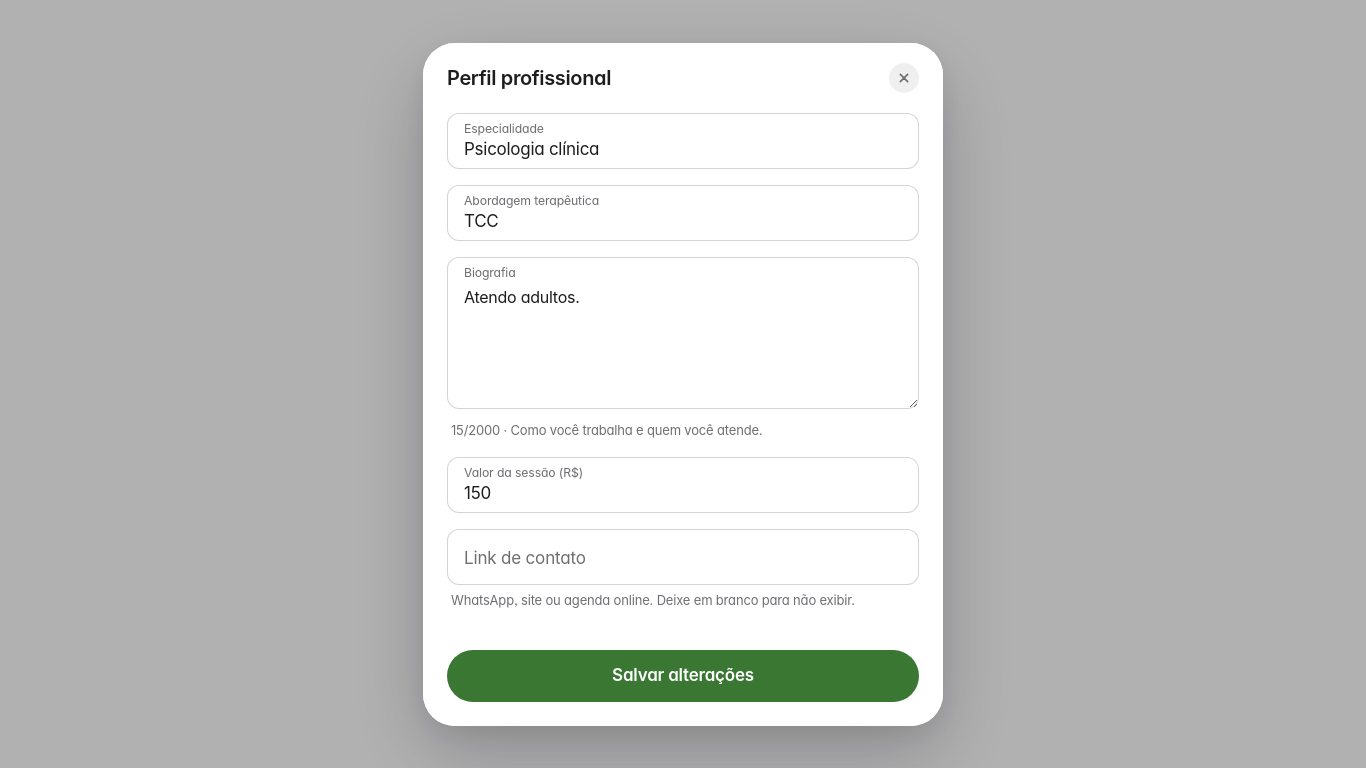
ProfessionalProfileSheet — edição do perfil profissional (US-11) › mostra a mensagem da API quando a validação falha e não fecha
The image size is (1366, 768).
Type "wa.me/123" into the field labelled "Link de contato".
click(683, 556); type("wa.me/123")  # box [447, 528, 919, 584]
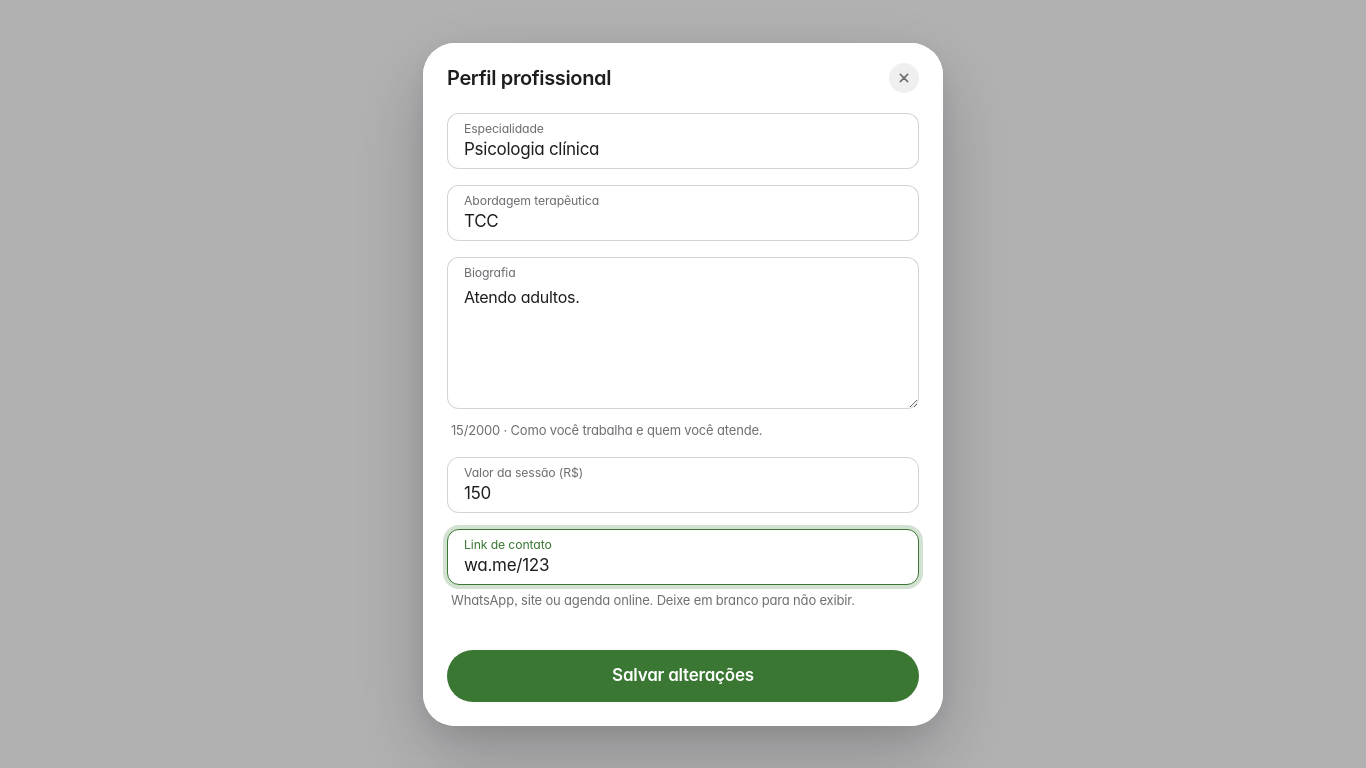
Click the button "Salvar alterações".
click(683, 675)  # box [447, 649, 919, 701]
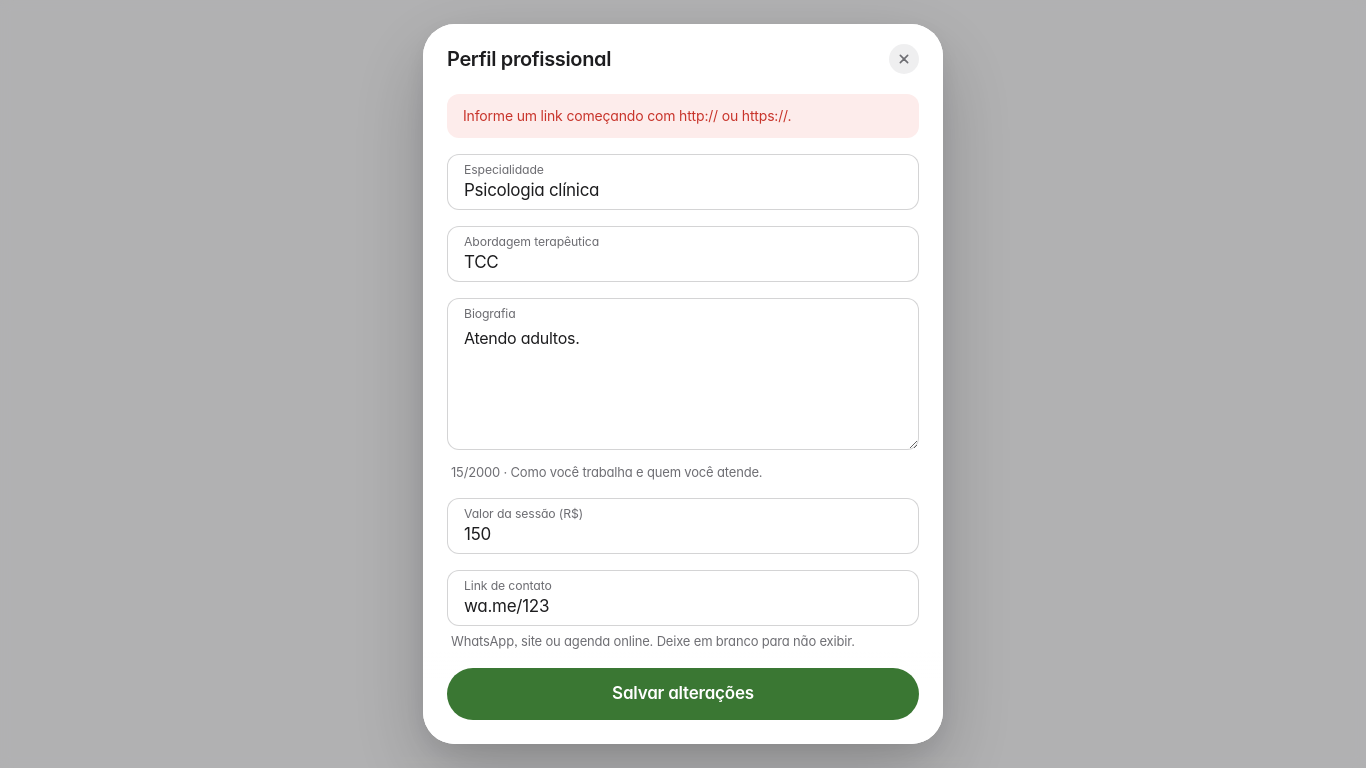
Expected: the message reads "Informe um link começando com http:// ou https://.", [463, 107, 791, 124]
